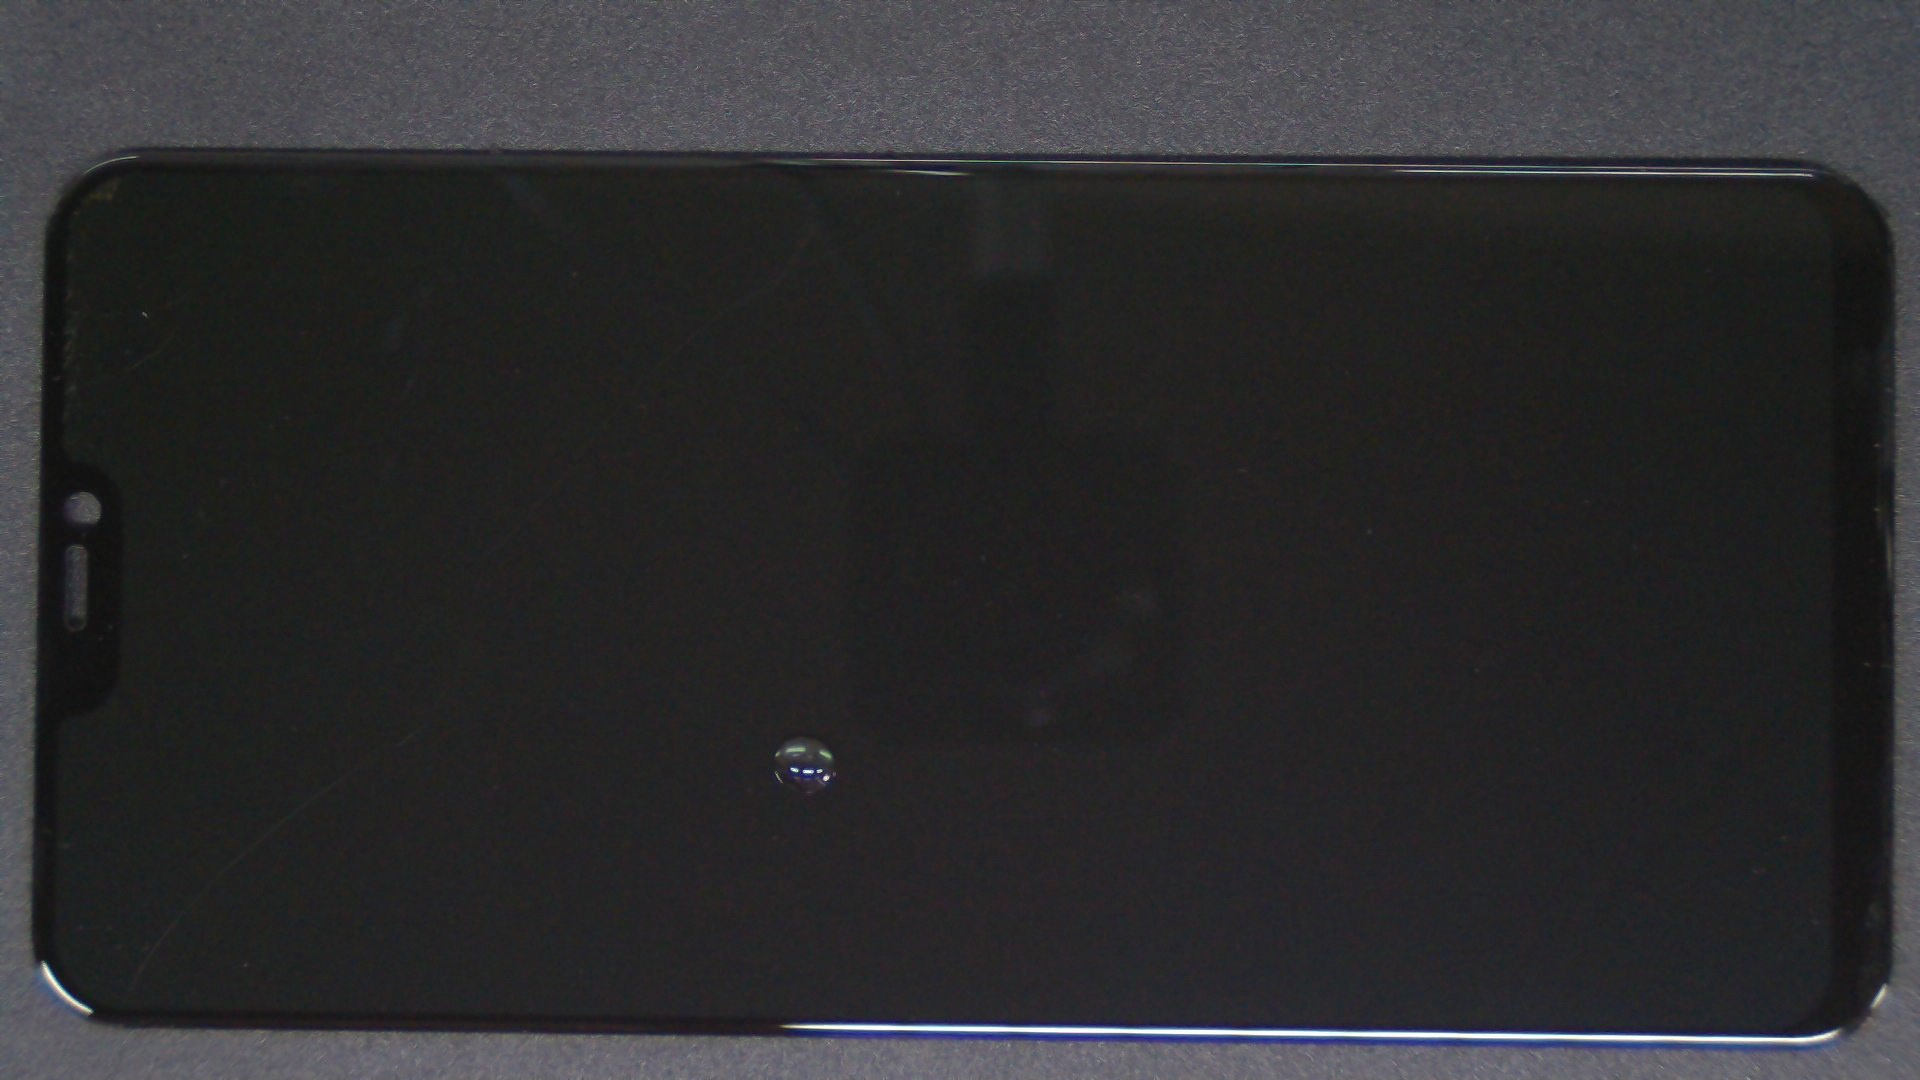oil: (398, 367, 1192, 1080)
